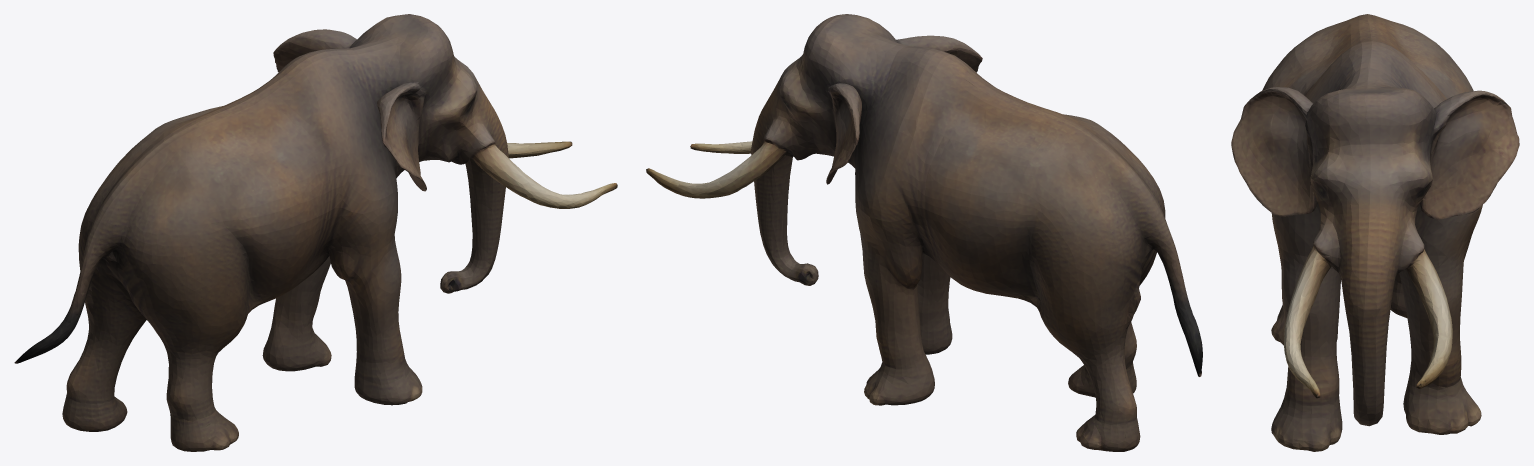
The picture shows the model from 3 angles, left to right: view 1: azimuth 30°, elevation 25°; view 2: azimuth 150°, elevation 25°; view 3: azimuth 270°, elevation 25°; orthographic projection. The views are drawn at different scales.
Visible parts, largest first — view 1: world; view 2: world; view 3: world.
Boxes of the visible parts, x1,y1,x2,y2 form: world: (14, 14, 617, 451); world: (646, 14, 1202, 451); world: (1231, 14, 1519, 451).
Bounding box in the file's own units: 0.991 × 0.5759 × 0.3938.
1 material, 1 textured.
